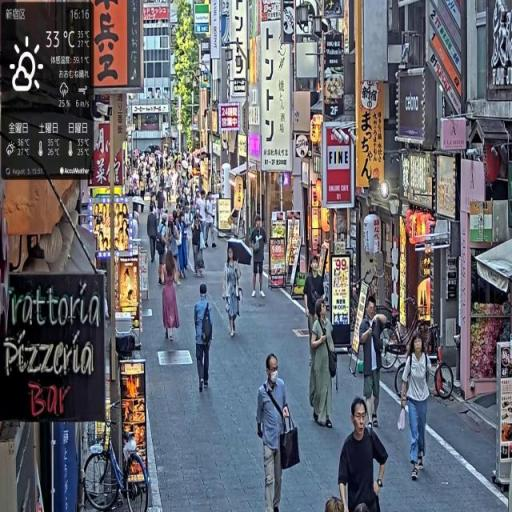person: (257, 353, 299, 512), (335, 394, 389, 512), (399, 330, 439, 483), (357, 297, 390, 431), (310, 297, 339, 432), (193, 283, 215, 394), (223, 244, 246, 340), (161, 250, 182, 347), (251, 216, 268, 303), (175, 209, 190, 280), (156, 216, 170, 288), (191, 217, 206, 280), (148, 205, 159, 264)
